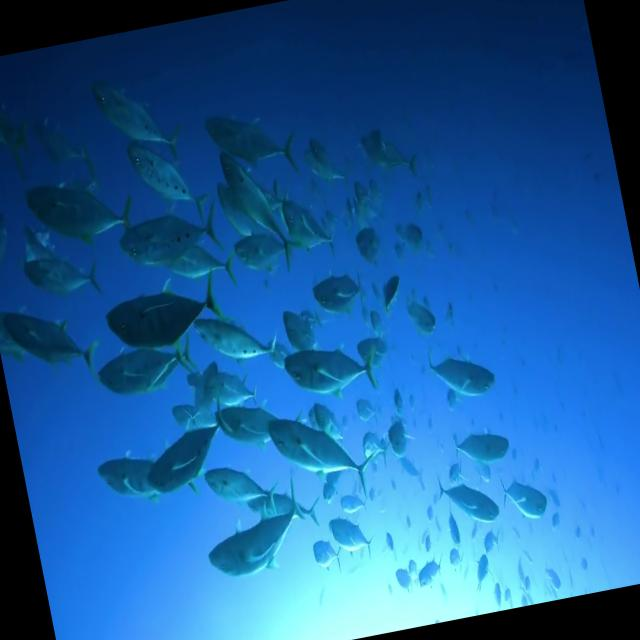fish: (196, 482, 314, 589), (264, 402, 376, 504), (22, 169, 143, 257), (218, 140, 299, 270), (88, 59, 185, 167), (104, 272, 222, 358), (136, 408, 242, 500), (2, 299, 102, 387), (92, 332, 202, 407), (202, 99, 299, 180), (127, 134, 208, 230), (118, 202, 225, 274), (188, 304, 284, 384), (284, 334, 388, 403), (422, 335, 498, 408), (277, 187, 346, 266), (205, 458, 280, 520), (234, 229, 312, 282), (436, 468, 500, 532), (207, 368, 264, 418), (496, 470, 548, 524), (310, 268, 366, 316), (328, 513, 378, 566)
